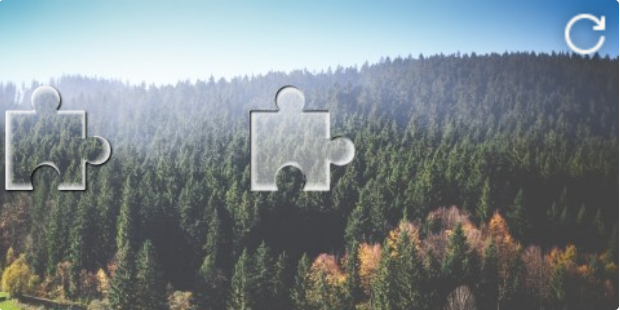target: (250, 85, 354, 192)
